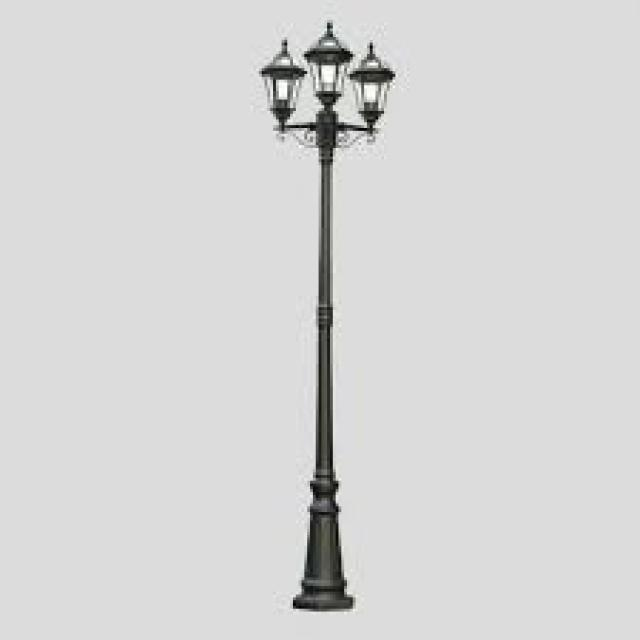Street Light: (262, 20, 398, 609)
